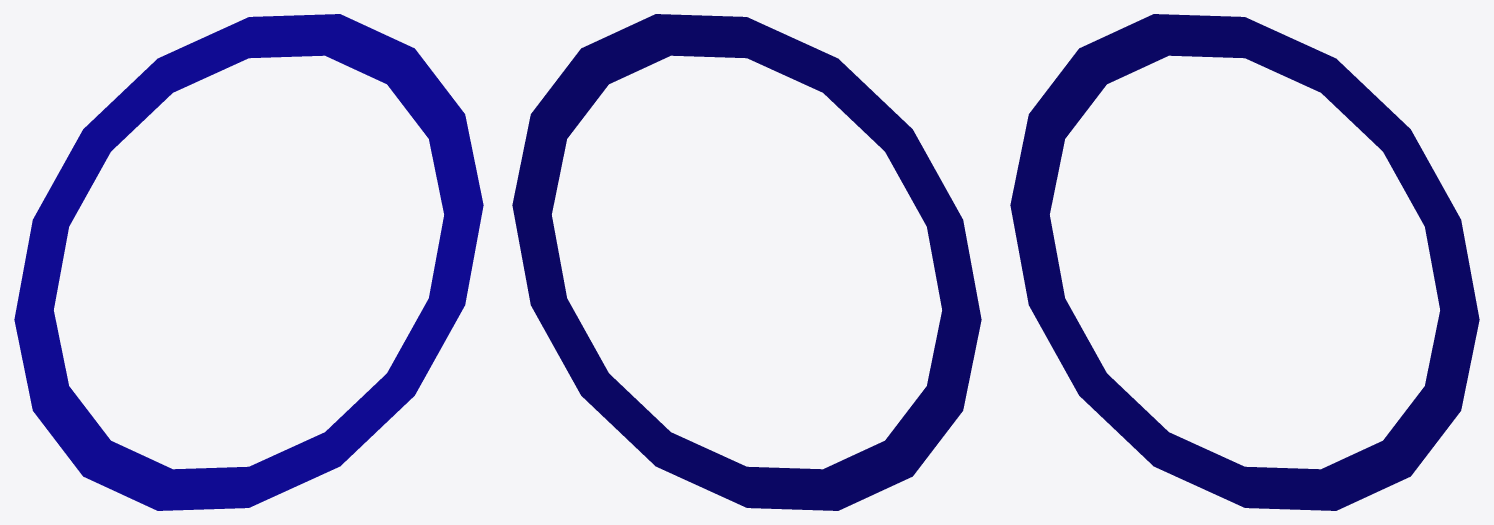
Rendered from ContourBleu.fbx.
The picture shows the model from 3 angles, left to right: view 1: azimuth 30°, elevation 25°; view 2: azimuth 150°, elevation 25°; view 3: azimuth 330°, elevation 25°; orthographic projection.
Parts seen in each view (by area): view 1: Object001; view 2: Object001; view 3: Object001.
Boxes of the visible parts, x1,y1,x2,y2 form: Object001: [14, 14, 483, 510]; Object001: [512, 14, 981, 510]; Object001: [1010, 14, 1479, 510].
Bounding box in the file's own units: 187 × 187 × 3.05e-05.
